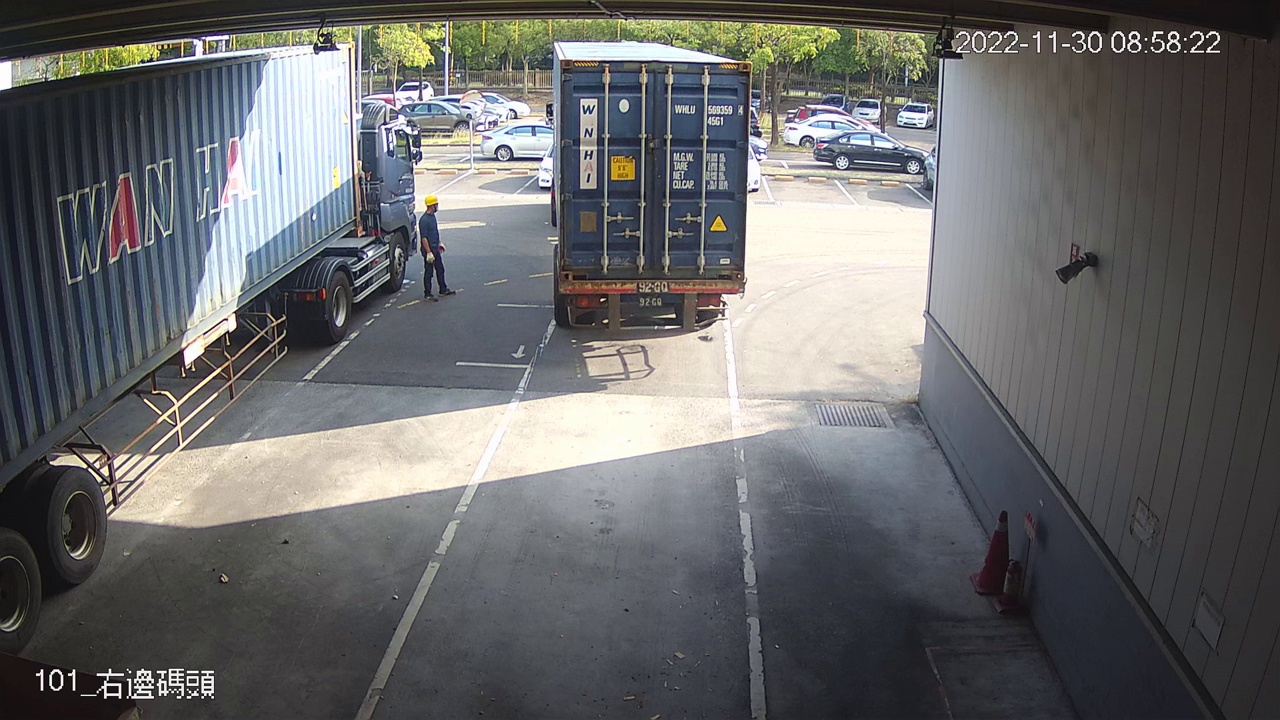container: (671, 100, 747, 130)
